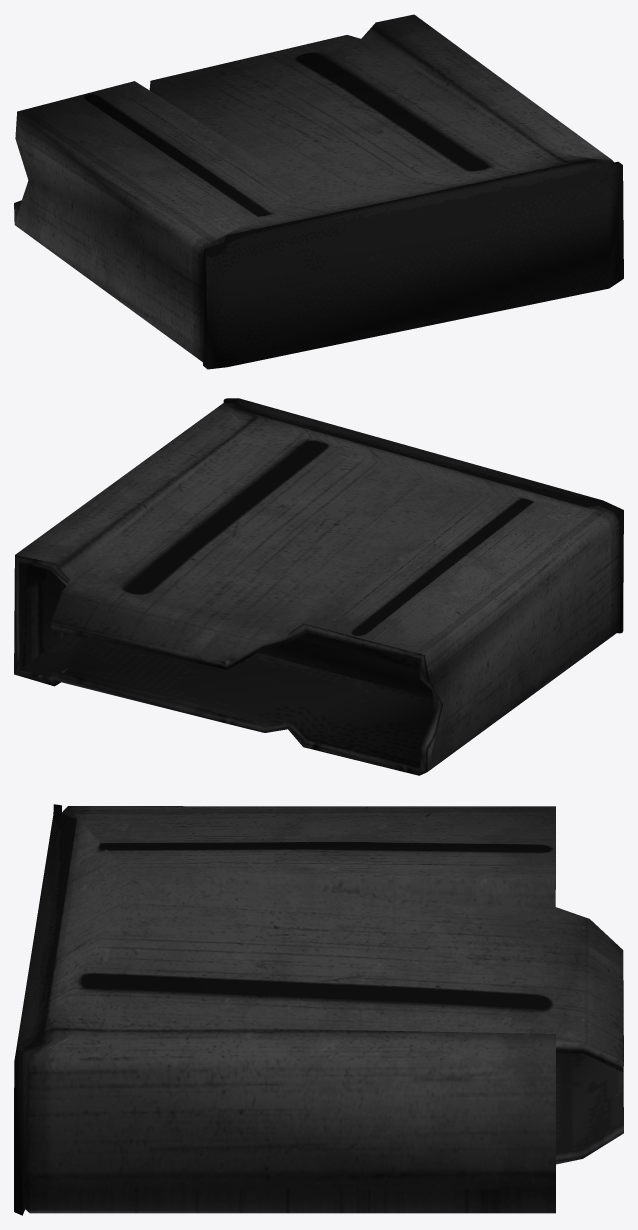
Rendered from Mag700series.fbx.
The picture shows the model from 3 angles, top to bottom: view 1: azimuth 30°, elevation 25°; view 2: azimuth 150°, elevation 25°; view 3: azimuth 270°, elevation 25°; orthographic projection. The views are drawn at different scales.
Visible parts, largest first — view 1: Mag700Series; view 2: Mag700Series; view 3: Mag700Series.
Part boxes in pixels (<box>): Mag700Series: <box>14,14,623,369</box>; Mag700Series: <box>14,398,623,775</box>; Mag700Series: <box>14,804,623,1215</box>.
Bounding box in the file's own units: 0.0459 × 0.0141 × 0.0458.
